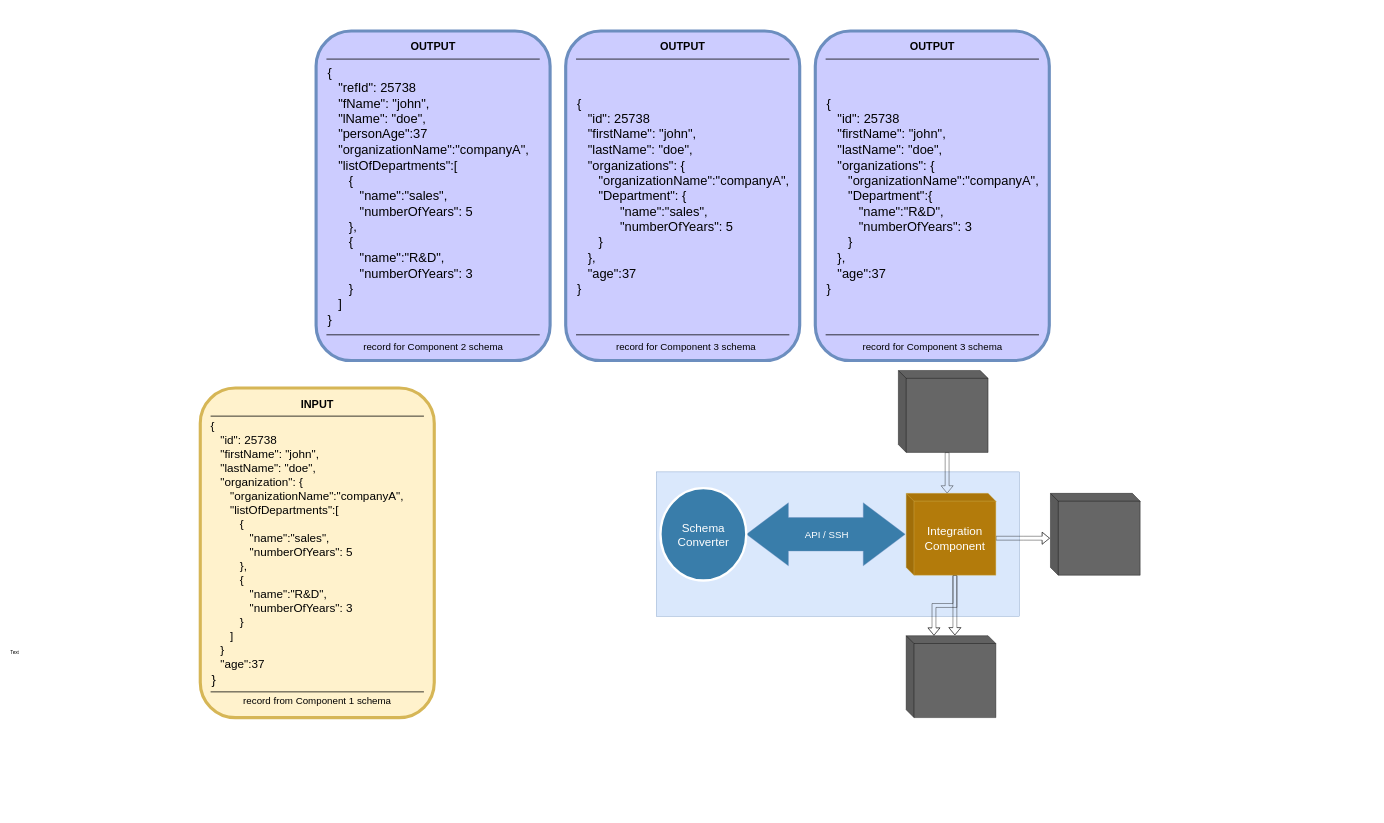
Image size: 1384x823. Some labels were removed from this diagram. Each missing label, with the centre of its shape:
Component 1: the point at 943,411
Component 2: the point at 1095,534
Component 3: the point at 951,676
